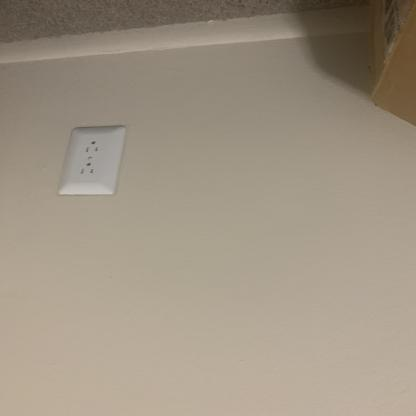OUTLET: (55, 128, 124, 196)
